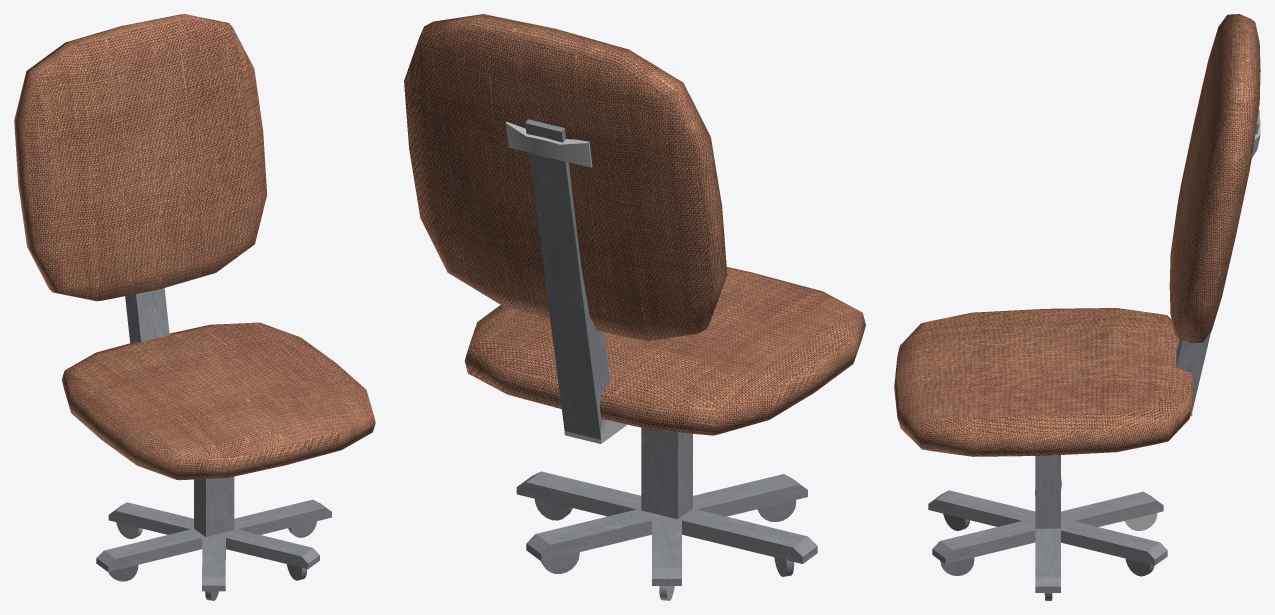
File: cadeira computador shawn.fbx
The picture shows the model from 3 angles, left to right: view 1: azimuth 30°, elevation 25°; view 2: azimuth 150°, elevation 25°; view 3: azimuth 270°, elevation 25°; orthographic projection. The views are drawn at different scales.
Parts seen in each view (by area): view 1: subdivCube432, subdivCube433, pCube4330, pCube4331, pCube4329, pCube4326, pCube4332; view 2: subdivCube432, subdivCube433, pCube4326, pCube4330, pCube4332, pCube4329, pCube4331, pCube4333; view 3: subdivCube433, subdivCube432, pCube4332, pCube4331, pCube4329, pCube4330, pCube4326.
Part boxes in pixels (x1,y1,x2,y2): subdivCube432: (14,14,267,301); subdivCube433: (62,322,375,480); pCube4330: (96,499,331,571); pCube4331: (108,502,319,568); pCube4329: (194,476,234,536); pCube4326: (125,288,169,342); pCube4332: (202,532,225,591); subdivCube432: (404,14,727,341); subdivCube433: (465,267,865,435); pCube4326: (525,119,610,439); pCube4330: (516,471,817,563); pCube4332: (526,474,807,561); pCube4329: (641,427,692,519); pCube4331: (652,513,681,585); pCube4333: (505,121,592,167); subdivCube433: (894,308,1194,456); subdivCube432: (1169,14,1260,343); pCube4332: (928,490,1167,565); pCube4331: (932,491,1163,564); pCube4329: (1035,455,1060,528); pCube4330: (1035,528,1060,592); pCube4326: (1176,109,1259,413).
Size of the model in its own units: 1.3 by 2.43 by 1.58.
